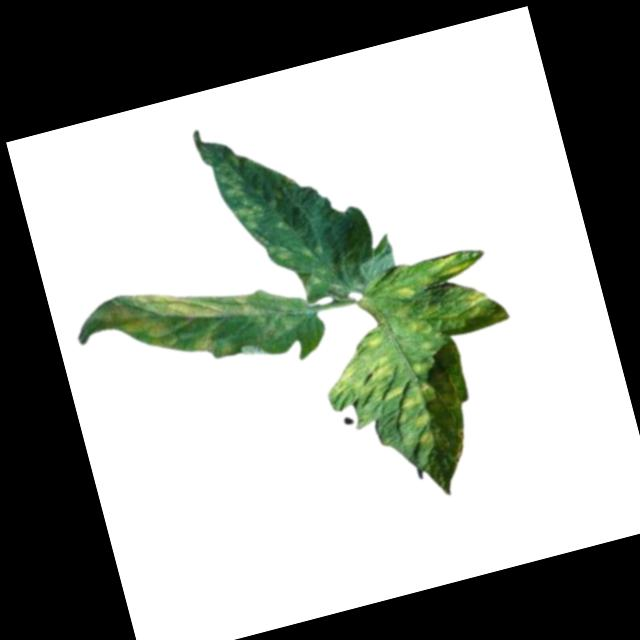Leaf_Mold: (311, 277, 550, 520), (95, 261, 269, 384), (210, 146, 273, 239), (416, 247, 474, 286)
